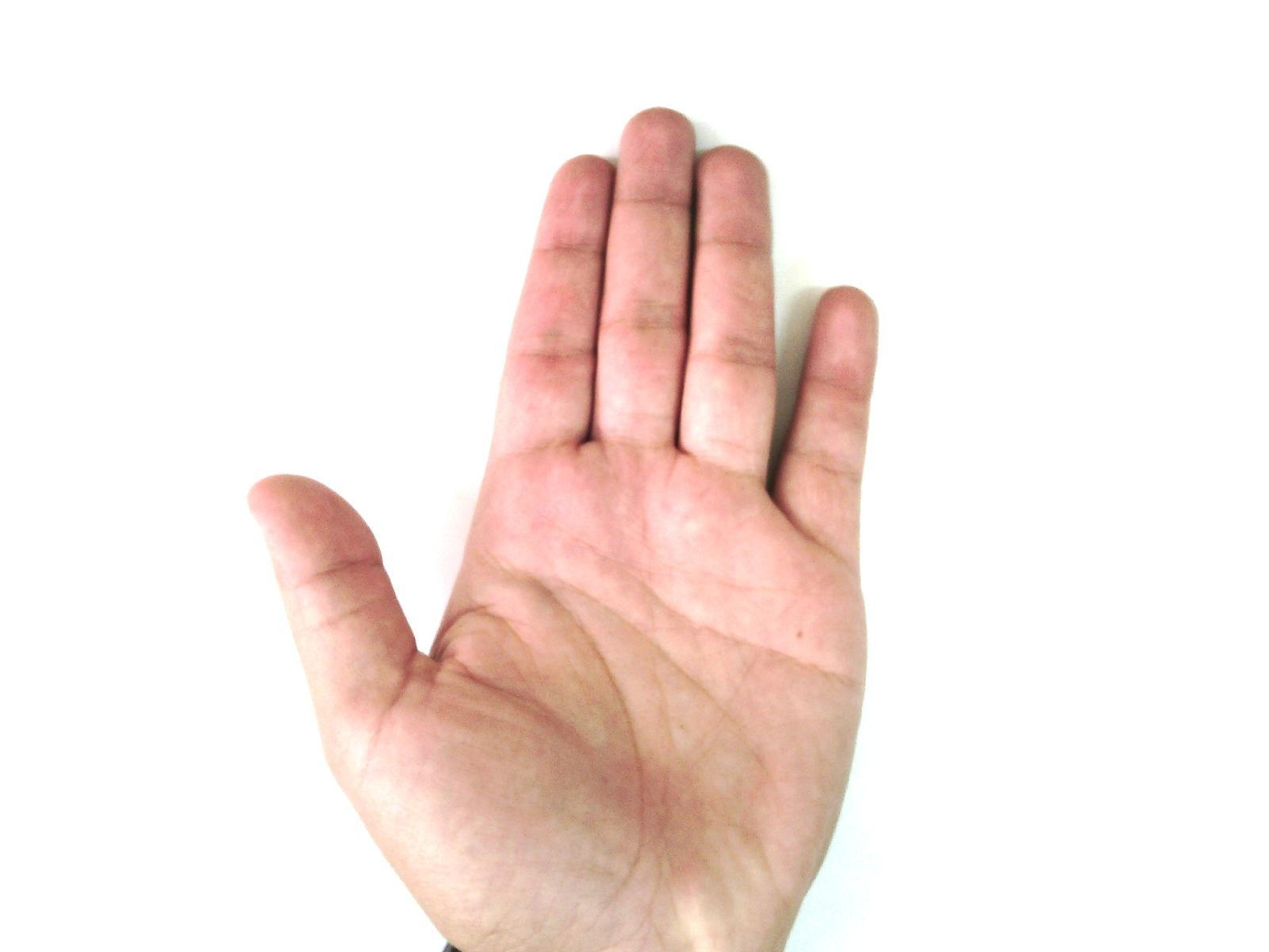open_palm: (246, 106, 883, 952)
